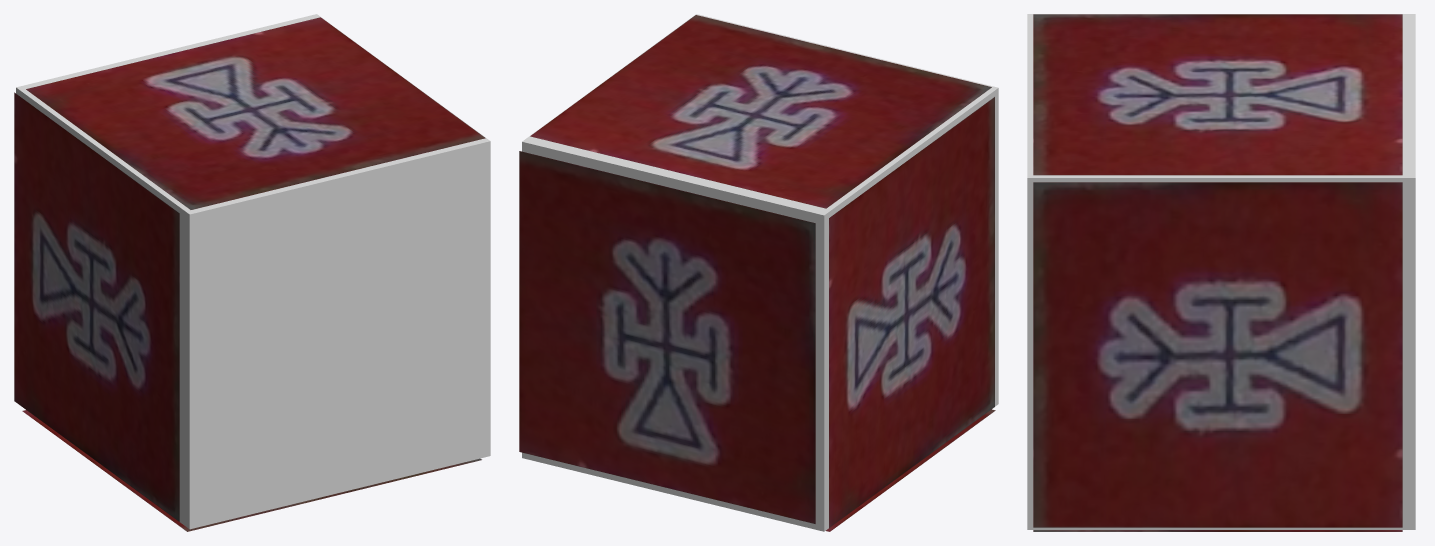
The picture shows the model from 3 angles, left to right: view 1: azimuth 30°, elevation 25°; view 2: azimuth 150°, elevation 25°; view 3: azimuth 270°, elevation 25°; orthographic projection. The views are drawn at different scales.
Visible parts, largest first — view 1: Link27, R1.002, R1.004, R1.003; view 2: R1.001, R1.002, R1.004, Link27, R1.003; view 3: R1, R1.004, Link27, R1.003.
Boxes of the visible parts, x1=… form: Link27: x1=16, y1=14, x2=490, y2=529; R1.002: x1=14, y1=92, x2=179, y2=521; R1.004: x1=26, y1=17, x2=485, y2=209; R1.003: x1=22, y1=410, x2=481, y2=531; R1.001: x1=519, y1=151, x2=815, y2=523; R1.002: x1=829, y1=97, x2=994, y2=527; R1.004: x1=530, y1=15, x2=991, y2=208; Link27: x1=522, y1=14, x2=998, y2=531; R1.003: x1=826, y1=409, x2=995, y2=531; R1: x1=1033, y1=182, x2=1402, y2=527; R1.004: x1=1033, y1=14, x2=1402, y2=175; Link27: x1=1027, y1=14, x2=1415, y2=529; R1.003: x1=1033, y1=530, x2=1402, y2=531.
Bounding box in the file's own units: 0.3557 × 0.3545 × 0.3567.
1 material, 1 textured.
